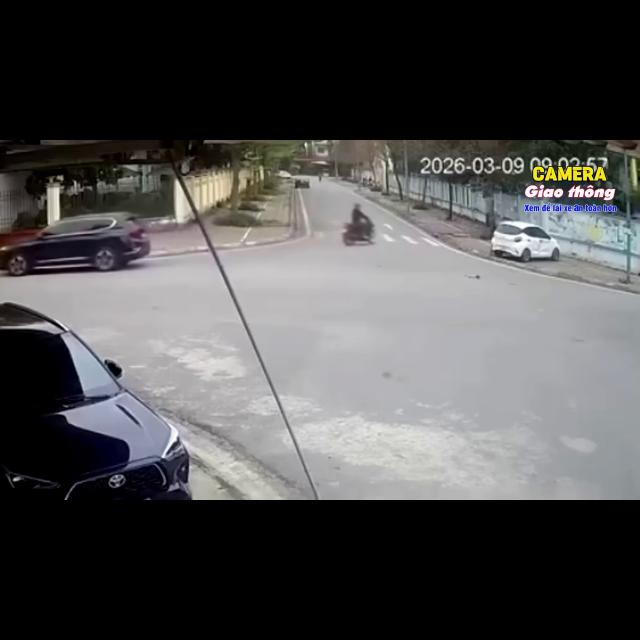car: (0, 303, 190, 499), (0, 212, 150, 275), (491, 221, 559, 261), (295, 178, 309, 188), (277, 170, 292, 178)
motorcycle: (343, 223, 374, 245)
